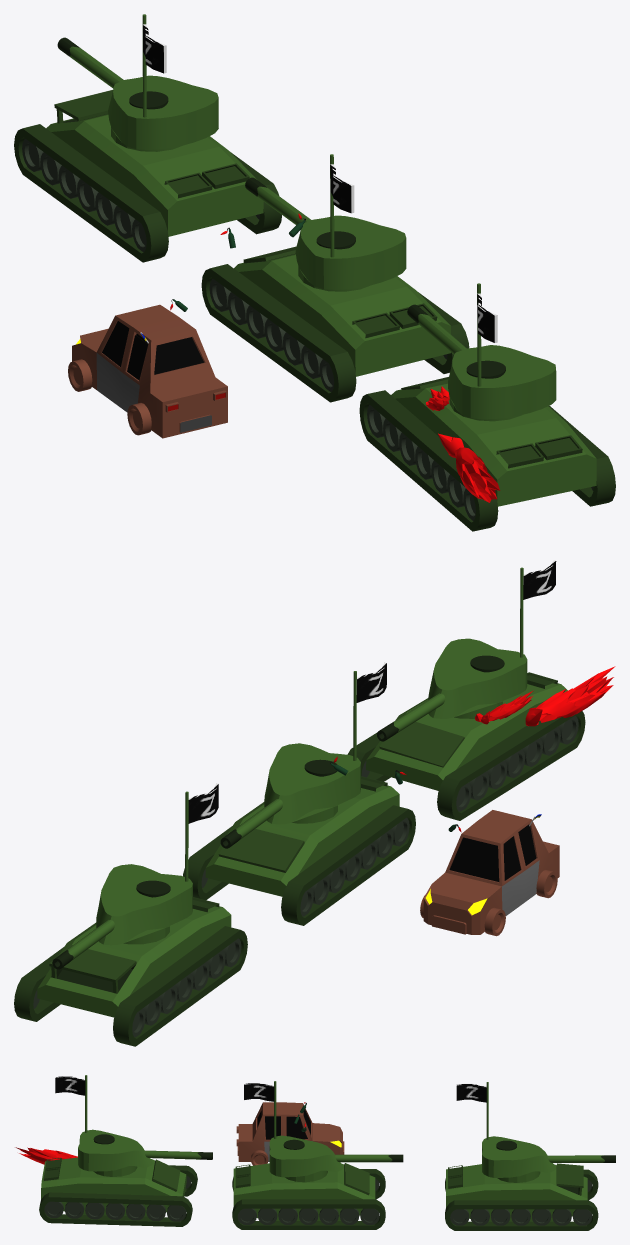
The model's file is ukvstank.fbx.
3 renders of one model, top to bottom at view 1: azimuth 30°, elevation 25°; view 2: azimuth 150°, elevation 25°; view 3: azimuth 270°, elevation 25°, orthographic. The views are drawn at different scales.
Parts seen in each view (by area): view 1: Circle.002; view 2: Circle.002; view 3: Circle.002.
Part boxes in pixels (x1,y1,x2,y2): Circle.002: (14, 14, 615, 531); Circle.002: (14, 560, 615, 1046); Circle.002: (15, 1075, 615, 1230).
Size of the model in its own units: 80.87 by 53.84 by 241.
Materials: 21 (1 with a texture image).
